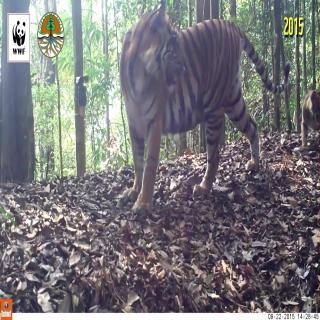Tiger: (114, 1, 270, 224)
